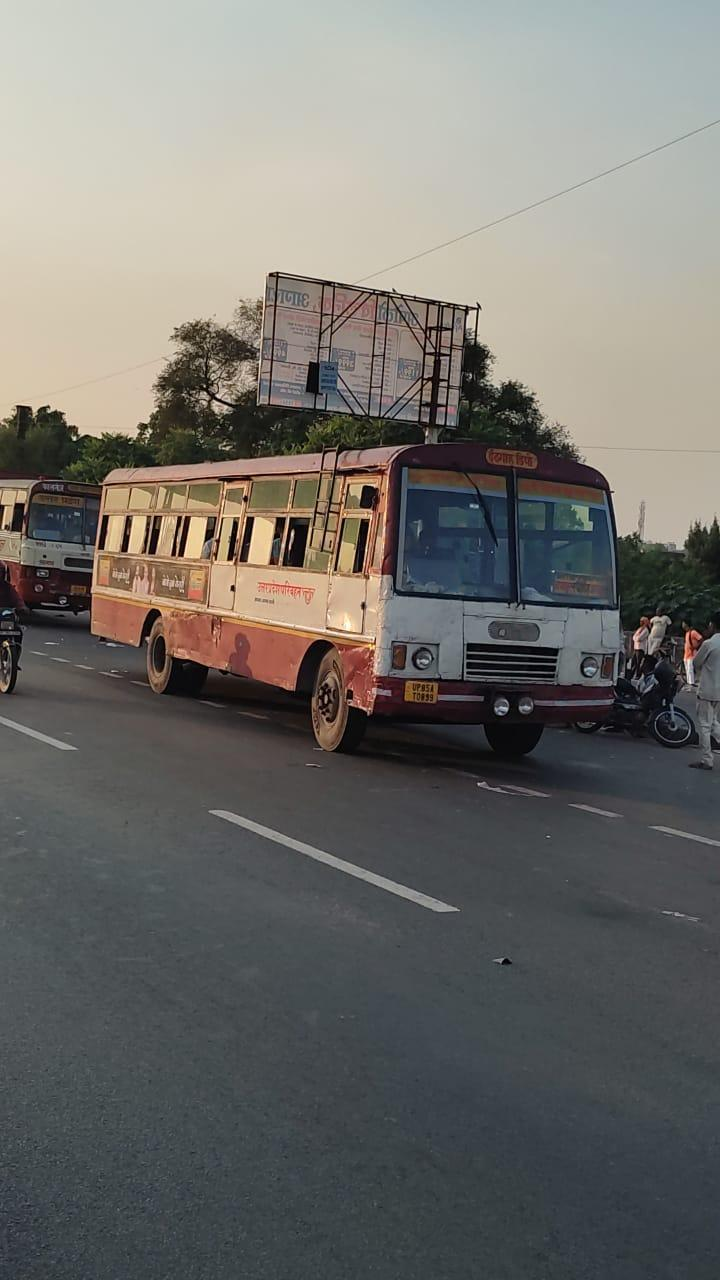Bus: (90, 439, 623, 762)
